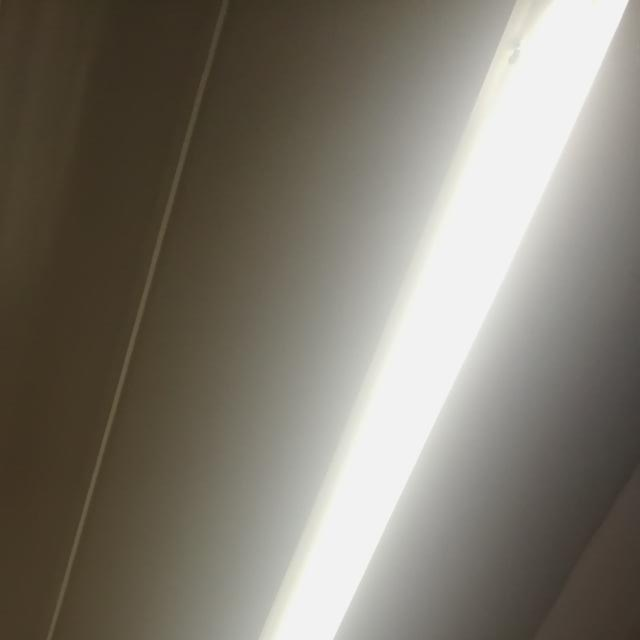fluorescent tube: (132, 0, 640, 640)
